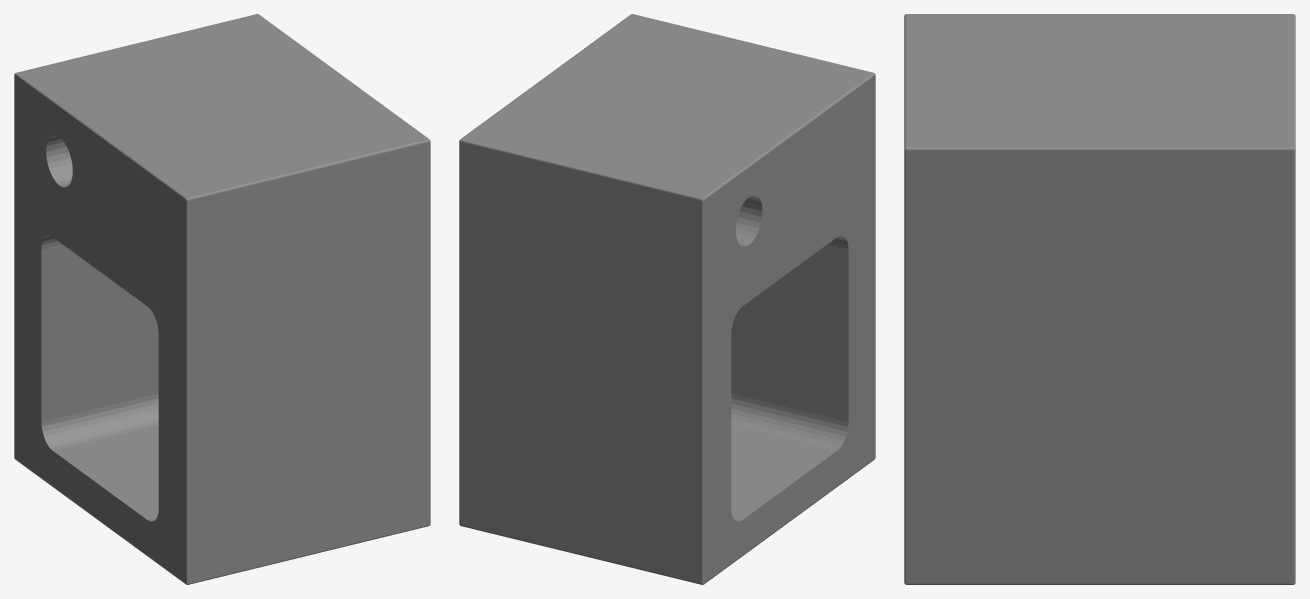
Rendered from body_mdl_0009.obj.
The picture shows the model from 3 angles, left to right: view 1: azimuth 30°, elevation 25°; view 2: azimuth 150°, elevation 25°; view 3: azimuth 270°, elevation 25°; orthographic projection. The views are drawn at different scales.
Bounding box in the file's own units: 0.49 × 0.74 × 0.6.
Materials: 1 (1 with a texture image).
